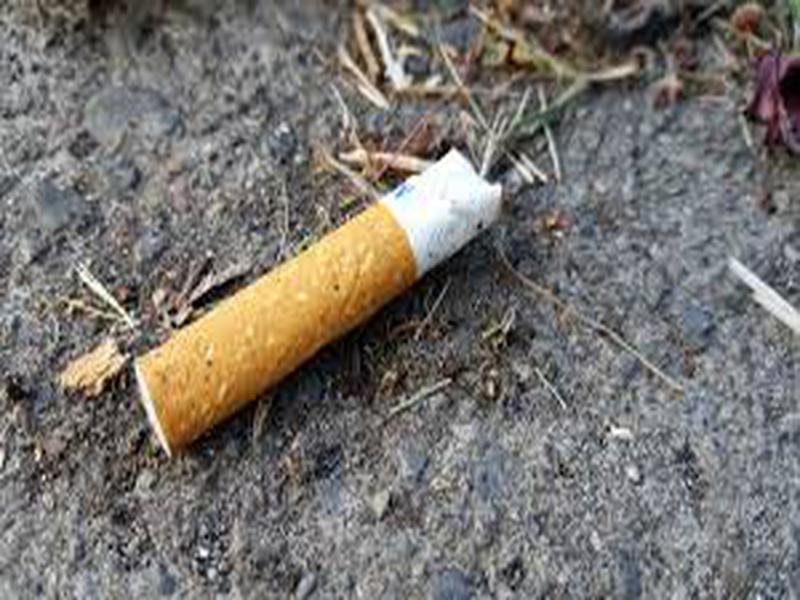burned_cigarette: (128, 146, 509, 468)
